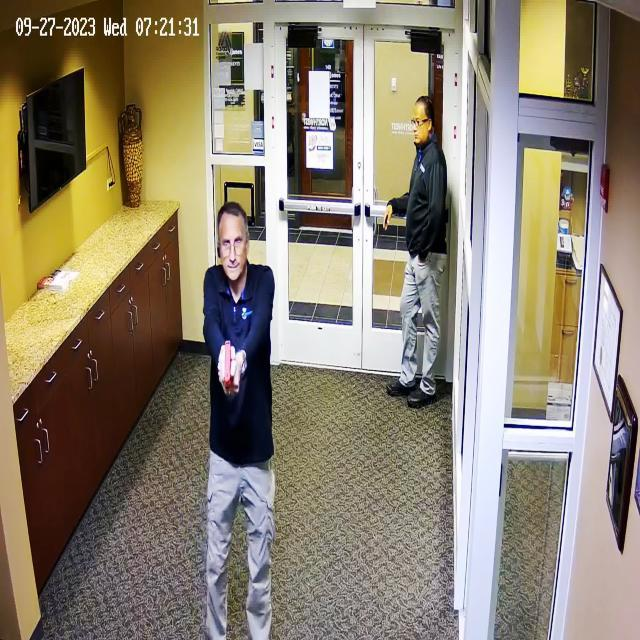Gun: (200, 332, 250, 401)
